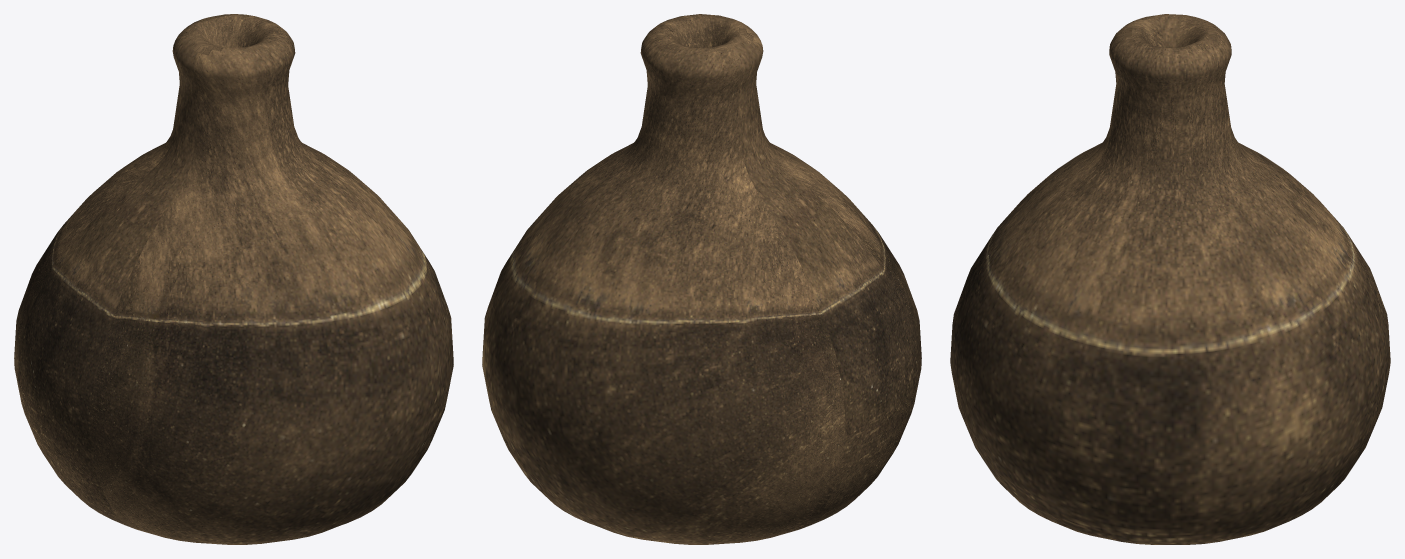
Rendered from bud_vase.glb.
The picture shows the model from 3 angles, left to right: view 1: azimuth 30°, elevation 25°; view 2: azimuth 150°, elevation 25°; view 3: azimuth 270°, elevation 25°; orthographic projection.
Visible parts, largest first — view 1: Cylinder; view 2: Cylinder; view 3: Cylinder.
Boxes of the visible parts, x1=… form: Cylinder: x1=14, y1=14, x2=453, y2=544; Cylinder: x1=482, y1=14, x2=921, y2=544; Cylinder: x1=950, y1=14, x2=1390, y2=544.
Bounding box in the file's own units: 1.75 × 2.02 × 1.75.
1 material, 1 textured.
